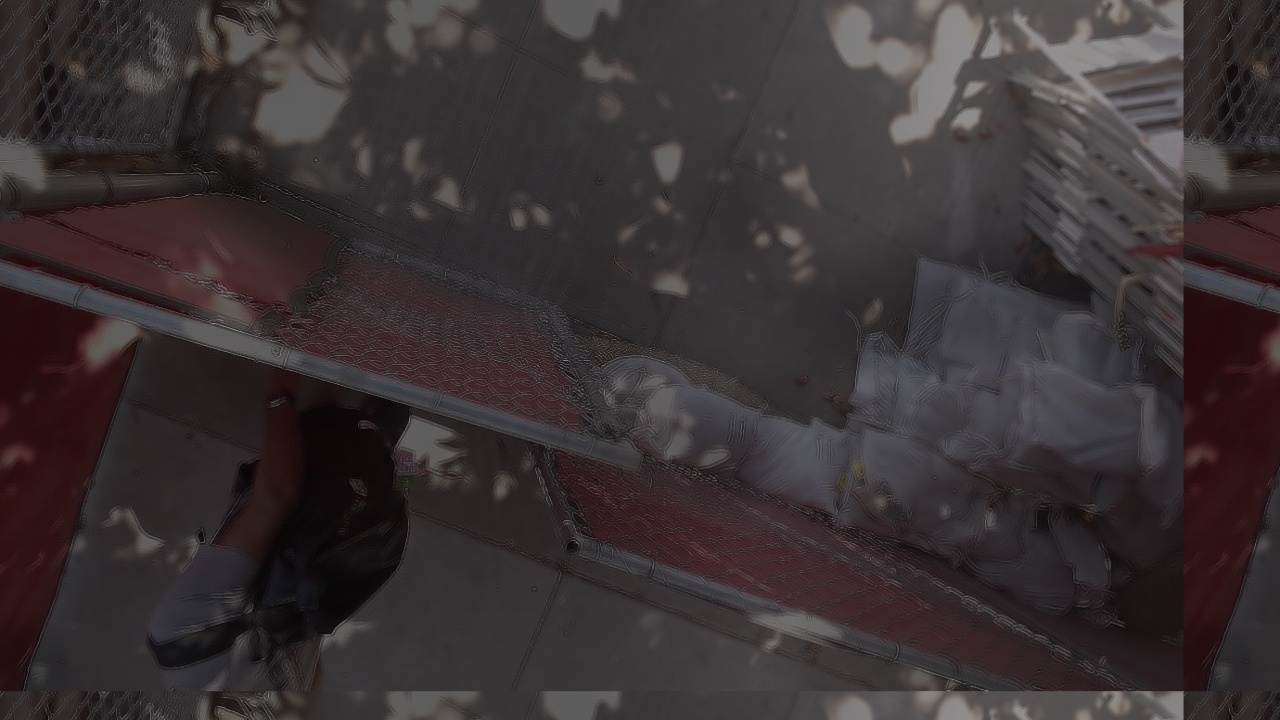person: (124, 473, 362, 720)
safetyvest: (122, 579, 266, 720)
